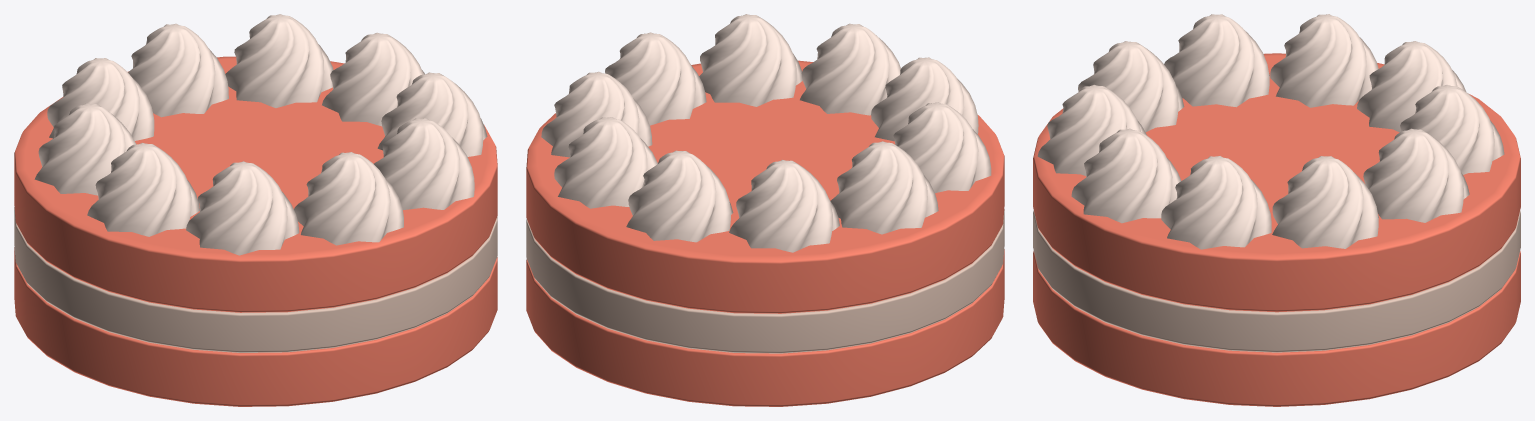
Rendered from SM_fruit_cake.glb.
The picture shows the model from 3 angles, left to right: view 1: azimuth 30°, elevation 25°; view 2: azimuth 150°, elevation 25°; view 3: azimuth 270°, elevation 25°; orthographic projection.
Visible parts, largest first — view 1: SM_fruit_cake; view 2: SM_fruit_cake; view 3: SM_fruit_cake.
Part boxes in pixels (x1=…): SM_fruit_cake: x1=14, y1=14, x2=497, y2=406; SM_fruit_cake: x1=526, y1=14, x2=1004, y2=406; SM_fruit_cake: x1=1033, y1=14, x2=1520, y2=406.
Size of the model in its own units: 0.3153 by 0.1555 by 0.3153.
1 material, 1 textured.
